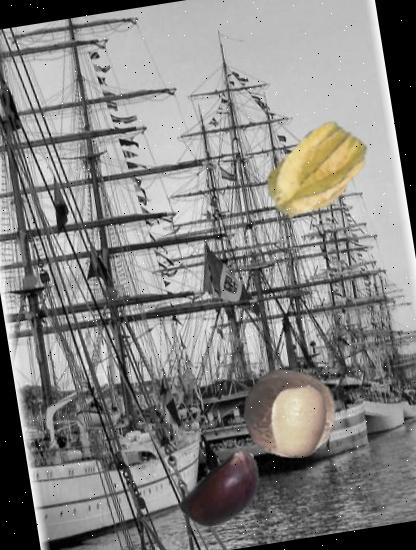Chestnut: (173, 440, 278, 546)
Kumquats: (256, 379, 342, 464)
Physalis: (254, 109, 382, 237)
Walnut: (238, 361, 344, 467)
